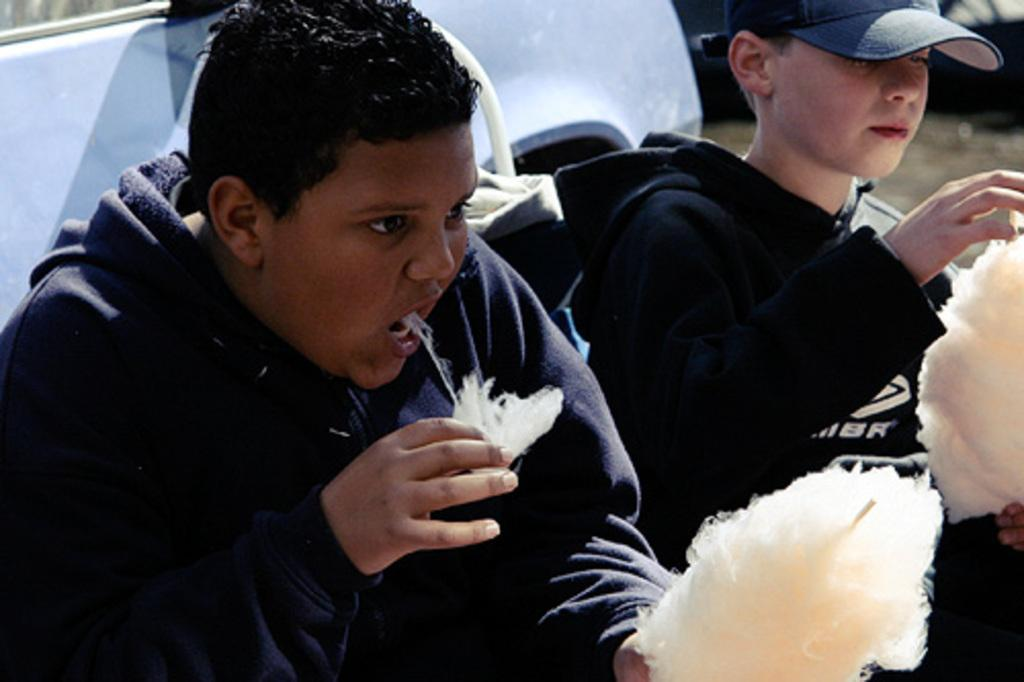Hat: (726, 0, 1008, 73)
